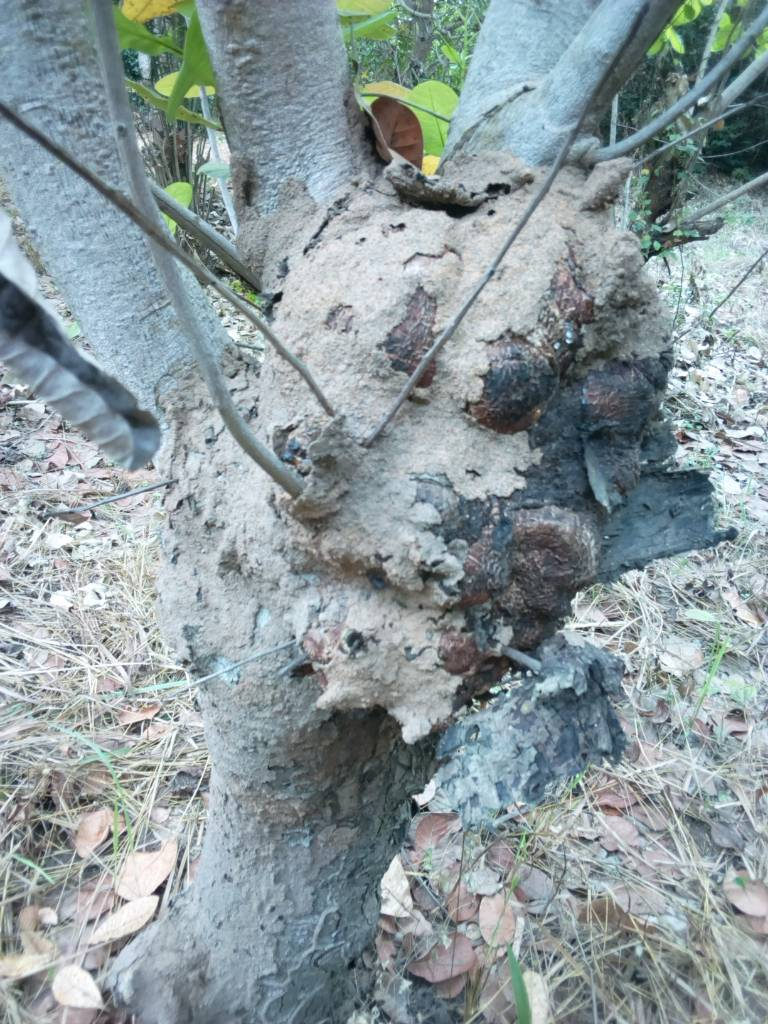Termites: (296, 188, 660, 696), (155, 452, 304, 803)
